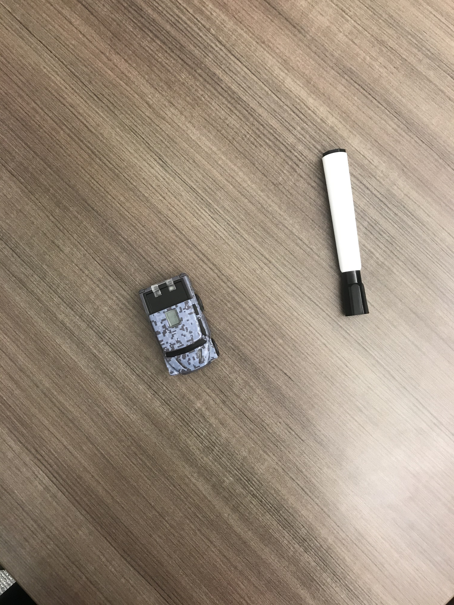MXT: (140, 274, 222, 376)
